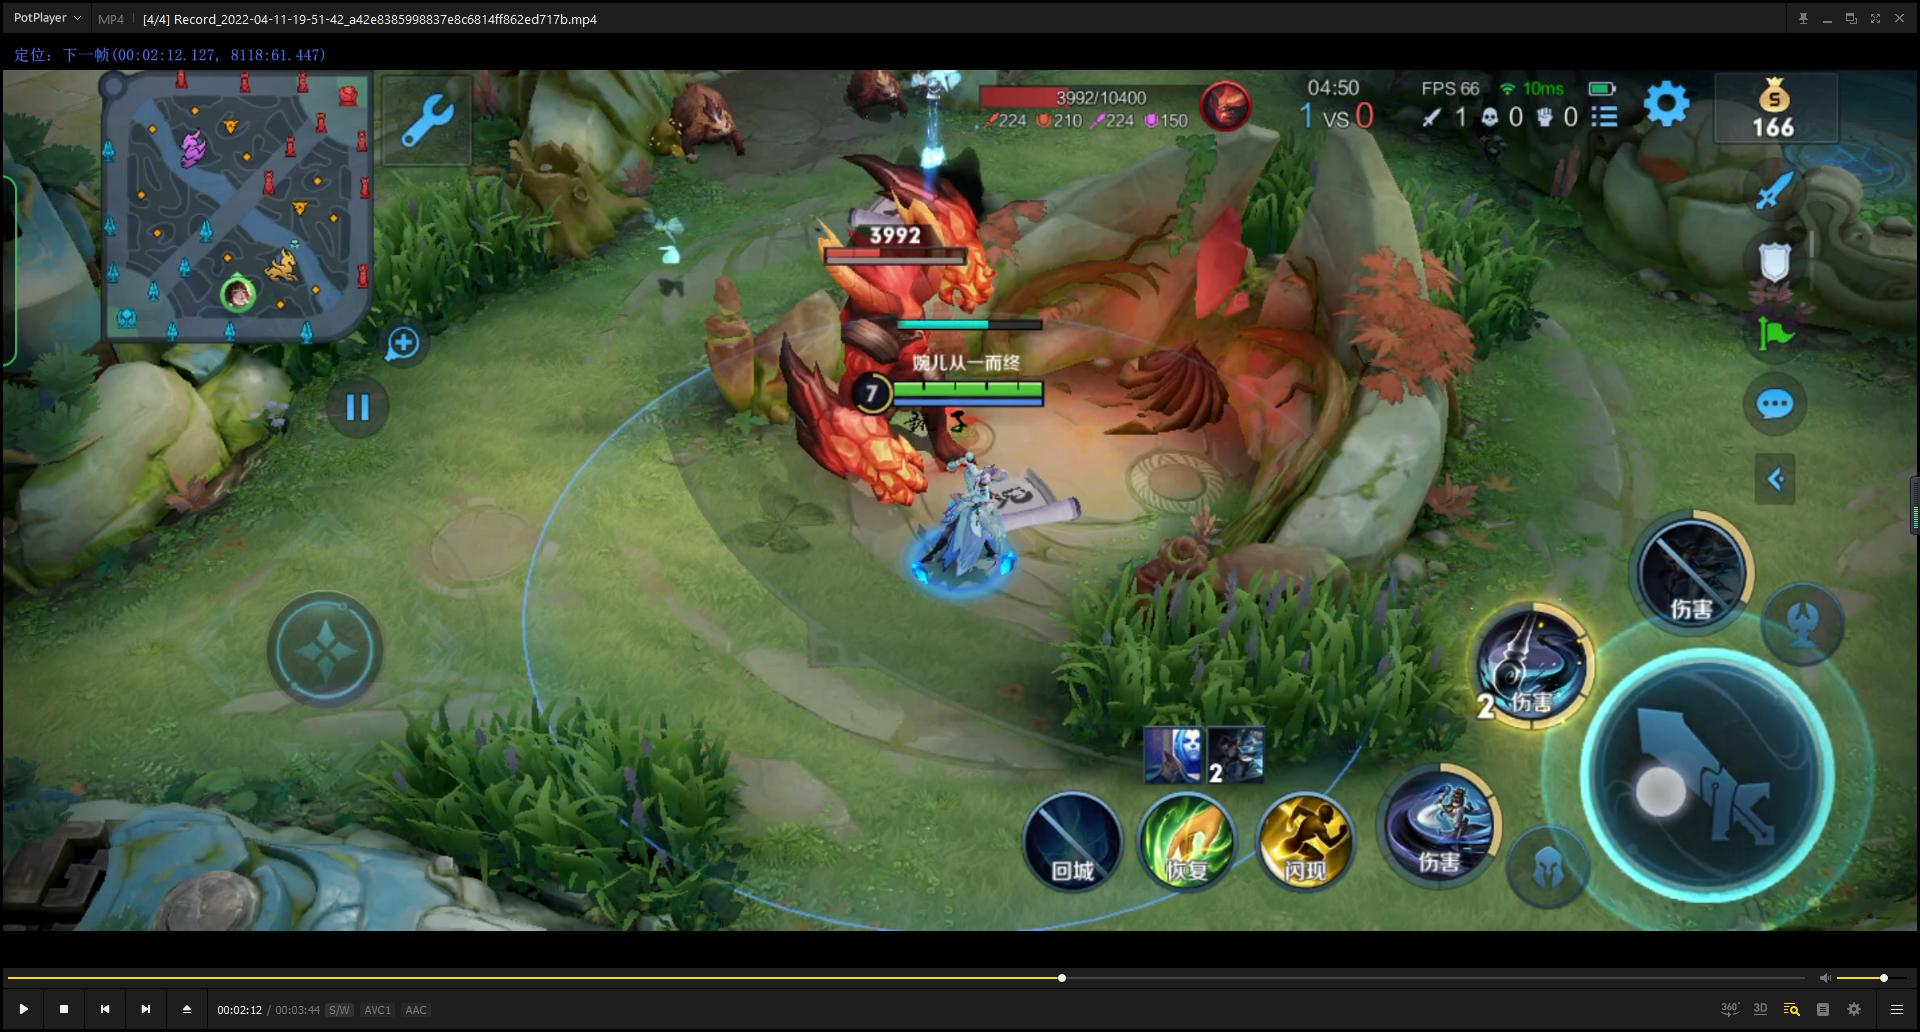Buff: (756, 113, 1031, 485)
Hero: (898, 445, 1031, 621)
Pig: (646, 72, 767, 173), (820, 71, 914, 128)
